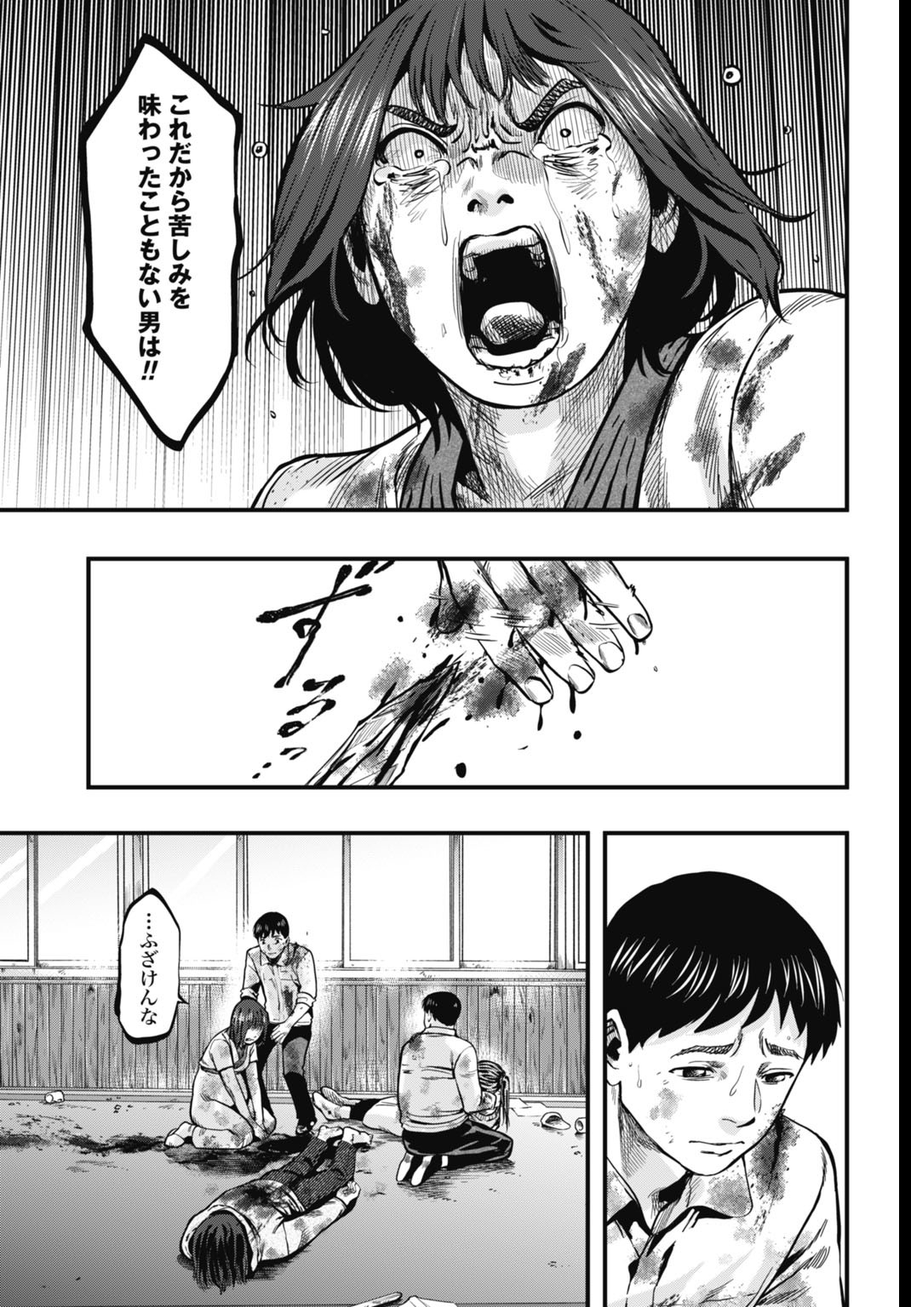bubbles: (72, 33, 261, 464), (112, 874, 198, 1047)
